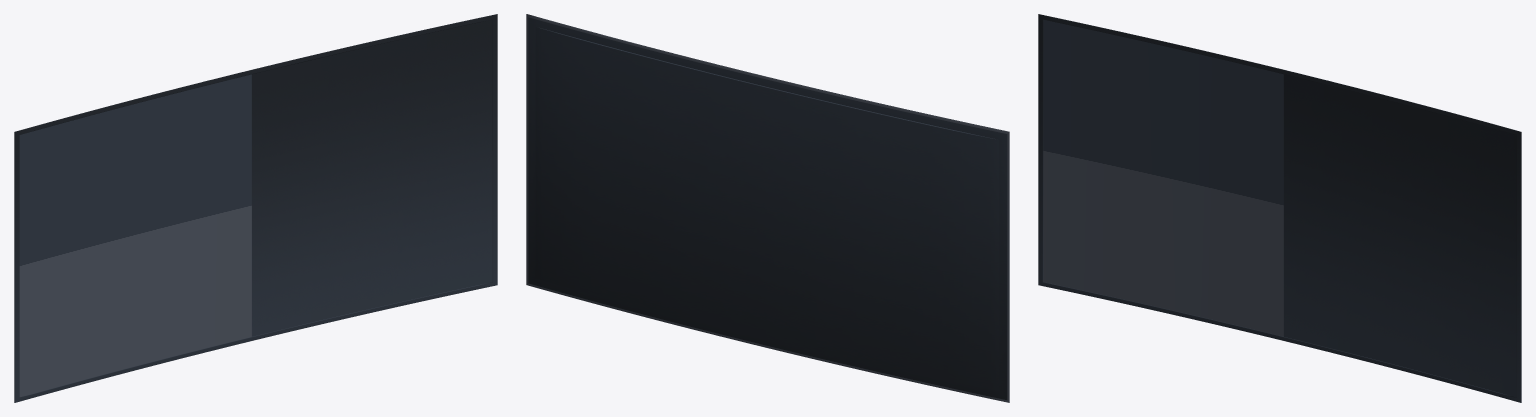
Rendered from Television_1.0.fbx.
3 views of the same model, side by side, from view 1: azimuth 30°, elevation 25°; view 2: azimuth 150°, elevation 25°; view 3: azimuth 330°, elevation 25° (orthographic).
Parts seen in each view (by area): view 1: Television_B, Television_A; view 2: Television_A; view 3: Television_B, Television_A.
Part boxes in pixels (x1,y1,x2,y2): Television_B: [19, 19, 492, 397]; Television_A: [14, 14, 497, 402]; Television_A: [526, 14, 1009, 402]; Television_B: [1043, 19, 1516, 397]; Television_A: [1038, 14, 1521, 402].
Bounding box in the file's own units: 577 × 309 × 12.15.
